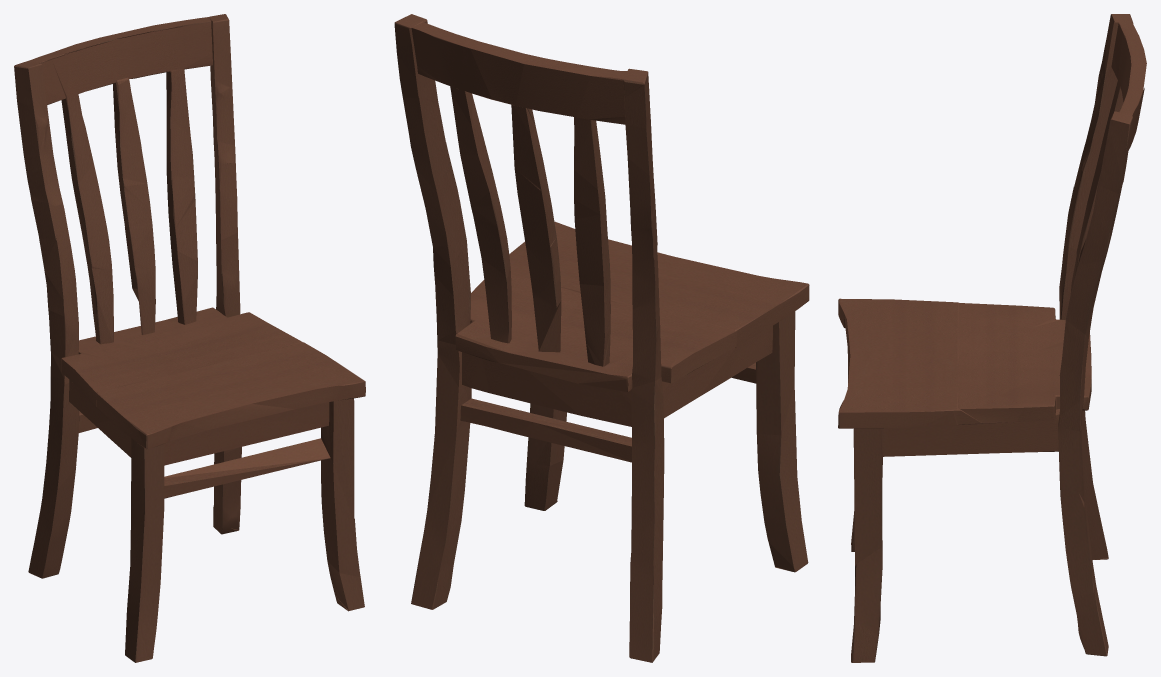
File: chair_old.glb
3 renders of one model, left to right at view 1: azimuth 30°, elevation 25°; view 2: azimuth 150°, elevation 25°; view 3: azimuth 270°, elevation 25°, orthographic. The views are drawn at different scales.
Bounding box in the file's own units: 0.9118 × 1.9 × 0.9915.
1 material, 1 textured.
